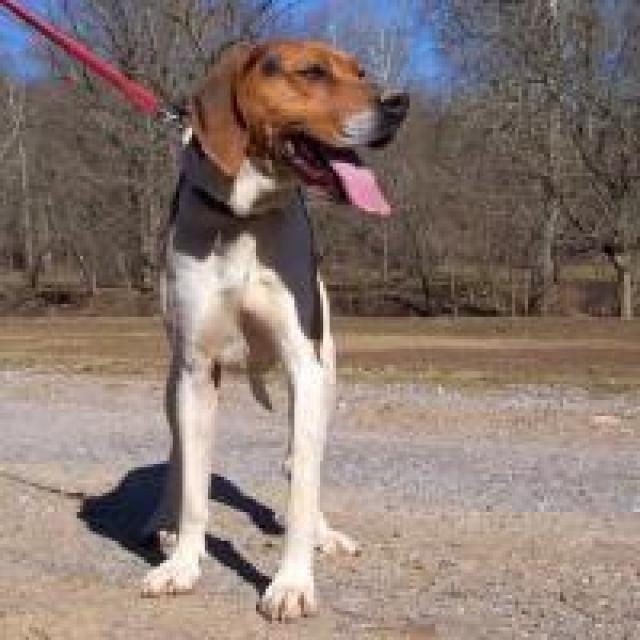happy: (124, 9, 400, 624)
